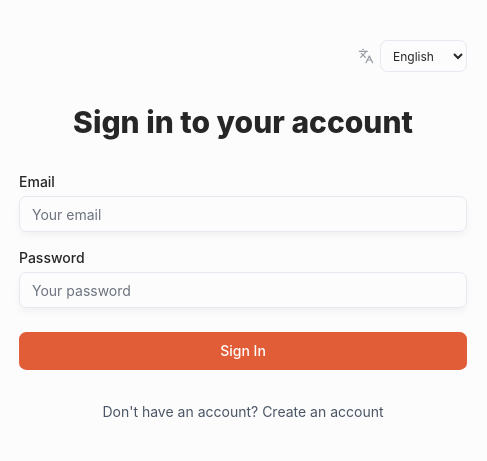
Test case: translates visible validation errors when switching language and keeps typed input
Click the button "Sign In" at (243, 351), box 19,332 -> 467,370
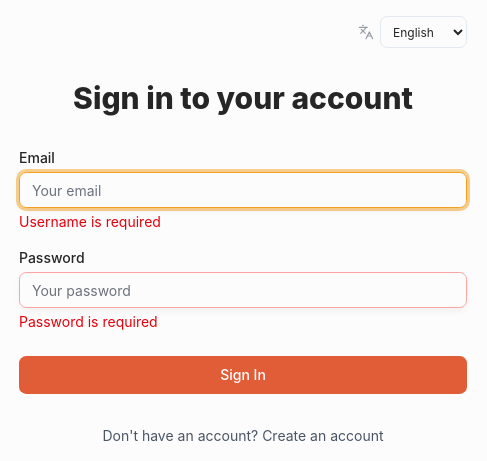
expect the text "Password is required" is shown: met, box 19,313 -> 158,330
Type "analyst@example.invalid" into the field labelled "Email" at (243, 190), box 19,172 -> 467,208
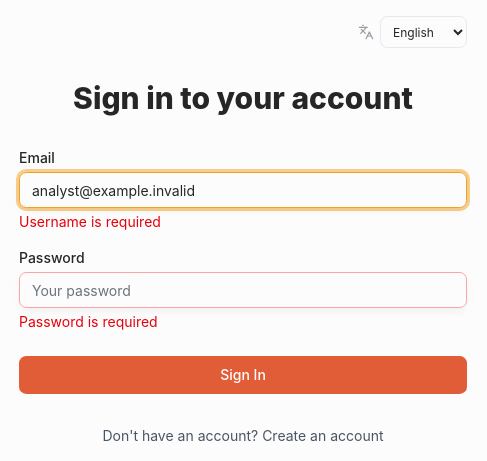
Select "Русский" in the dropdown named "Language" at (424, 32), box 380,16 -> 467,48
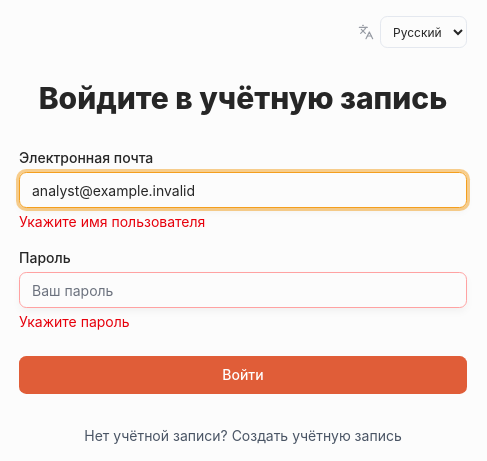
expect the text "Укажите пароль" is shown: met, box 19,313 -> 130,330
expect the button "Войти" is shown: met, box 19,356 -> 467,394
Select "English" in the dropdown named "Язык" at (424, 32), box 380,16 -> 467,48
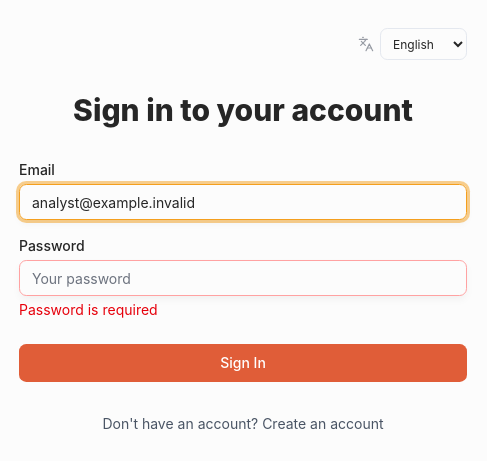
expect the text "Password is required" is shown: met, box 19,301 -> 158,318
